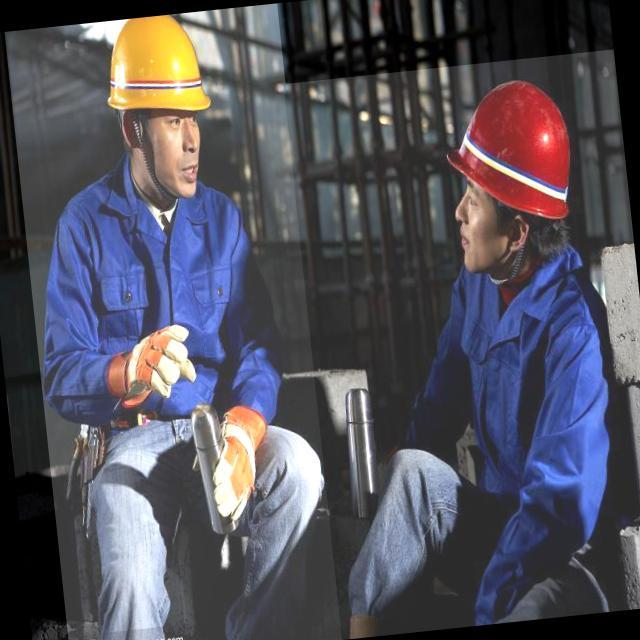Gloves: (104, 310, 192, 444), (197, 408, 268, 549)
Helmet: (432, 63, 587, 236), (89, 9, 227, 126)
Person: (24, 5, 330, 640), (344, 44, 638, 640)
no-vest: (388, 236, 625, 639), (38, 144, 293, 431)
